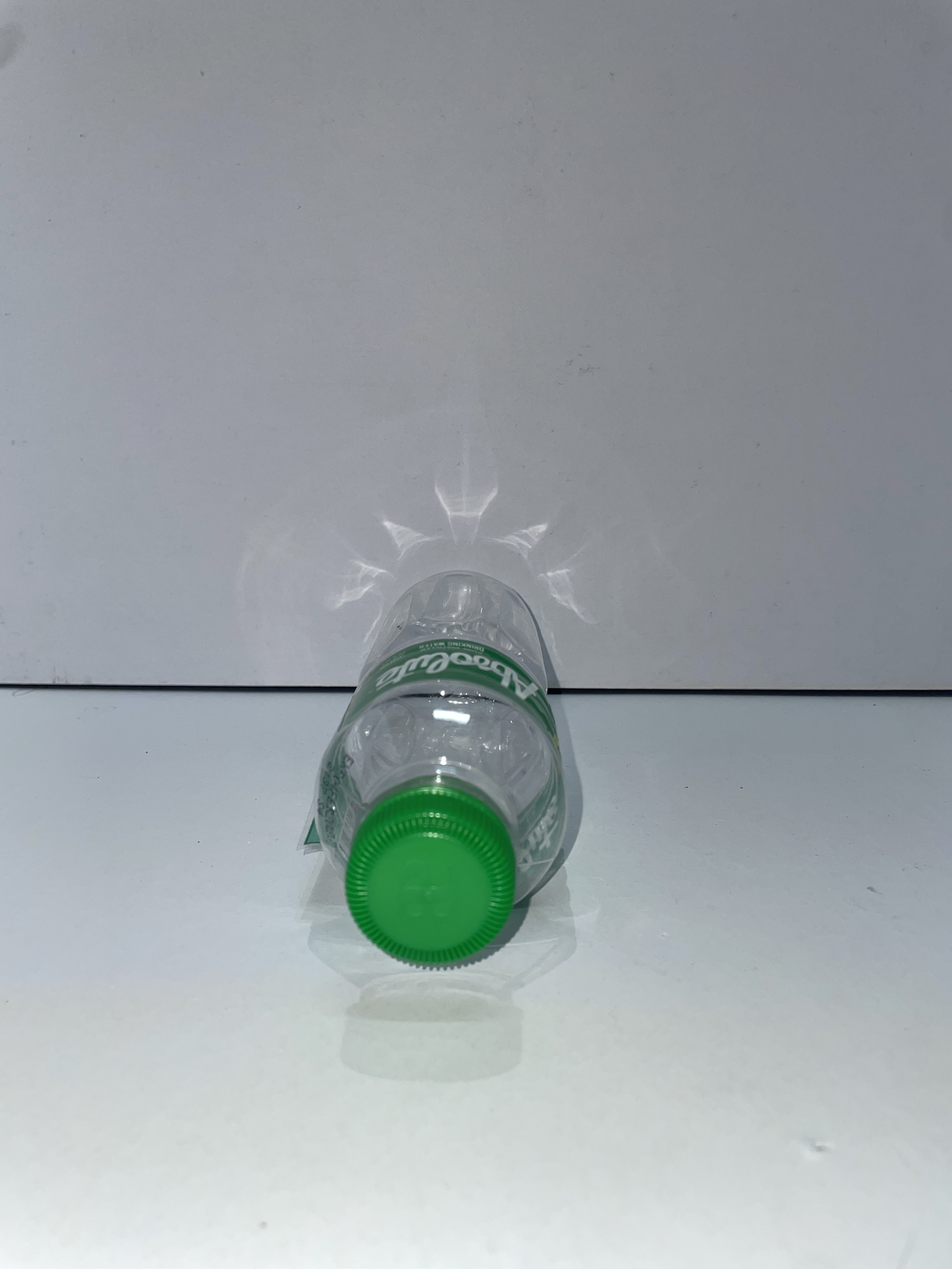Absolute 350ml: (304, 572, 566, 968)
